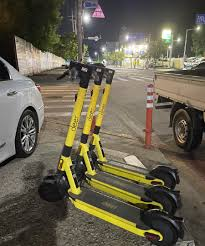kick_handler: (59, 60, 93, 87)
kick_wheel: (144, 211, 185, 246), (147, 186, 180, 214), (153, 167, 181, 185), (40, 180, 63, 200)
